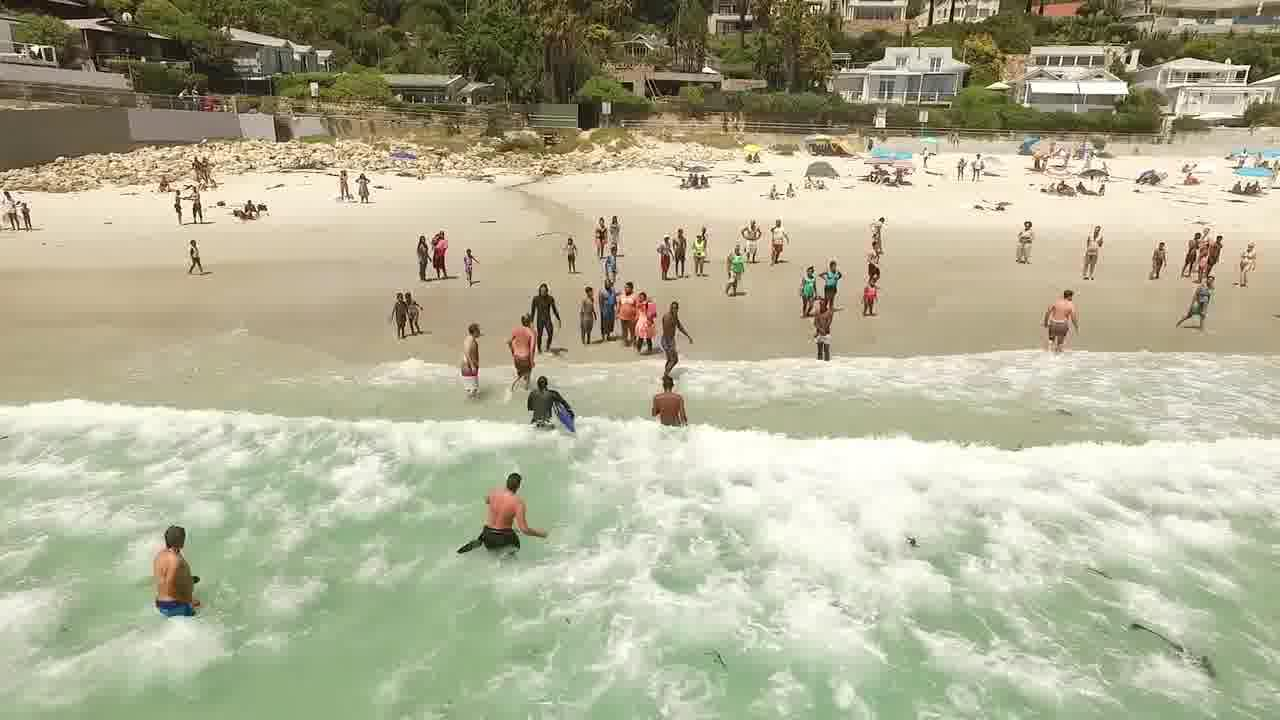human: (144, 499, 204, 600), (477, 471, 528, 539), (1039, 286, 1083, 363), (801, 300, 848, 354), (504, 315, 541, 376), (652, 368, 686, 425), (456, 321, 479, 384), (534, 272, 560, 326), (1192, 279, 1215, 325), (529, 377, 564, 407)
